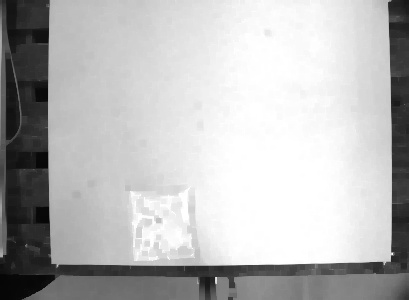t3: (123, 180, 200, 264)
